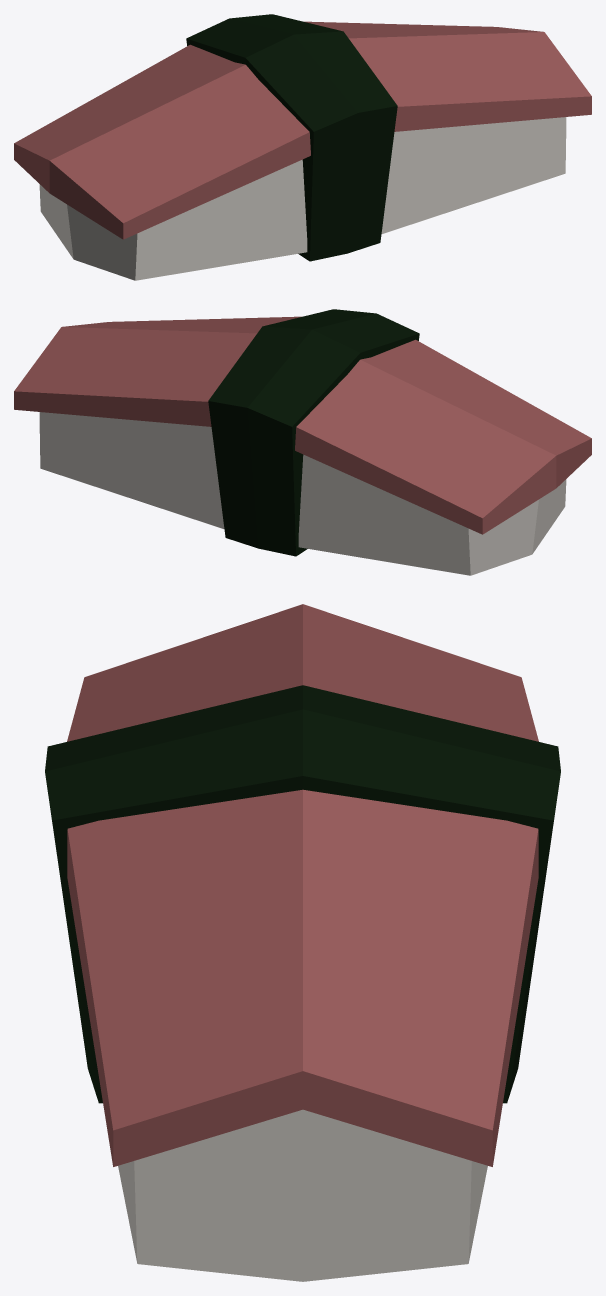
Rendered from niguiriTunaWithNori.fbx.
3 views of the same model, one above another, from view 1: azimuth 30°, elevation 25°; view 2: azimuth 150°, elevation 25°; view 3: azimuth 270°, elevation 25° (orthographic). The views are drawn at different scales.
Parts seen in each view (by area): view 1: niguiriTunaWithNori; view 2: niguiriTunaWithNori; view 3: niguiriTunaWithNori.
Part boxes in pixels (left/top/right/bottom): niguiriTunaWithNori: left=14, top=14, right=591, bottom=280; niguiriTunaWithNori: left=14, top=309, right=591, bottom=575; niguiriTunaWithNori: left=45, top=604, right=560, bottom=1281.
Bounding box in the file's own units: 13.43 × 4.66 × 6.07.
Materials: 1 (1 with a texture image).
